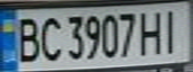0: (100, 10, 121, 58)
3: (63, 11, 84, 61)
7: (118, 9, 139, 57)
9: (81, 11, 103, 61)
B: (9, 14, 42, 63)
C: (36, 12, 63, 63)
H: (136, 7, 166, 56)
I: (157, 6, 187, 55)
